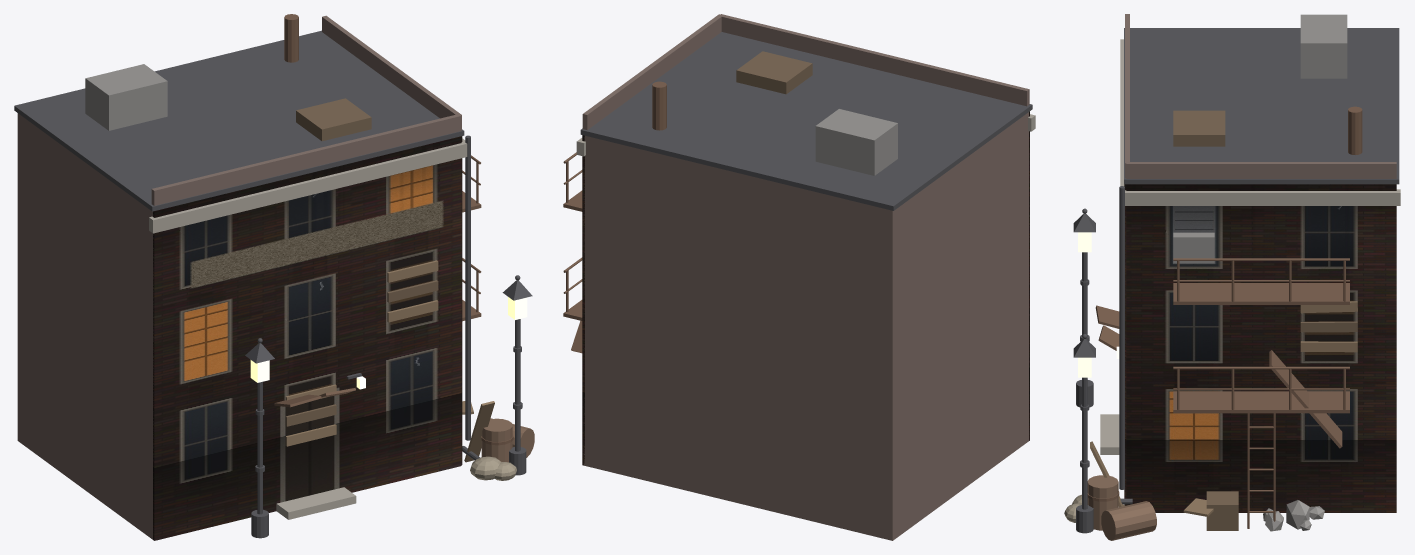
The model's file is bg_vignette.glb.
3 views of the same model, side by side, from view 1: azimuth 30°, elevation 25°; view 2: azimuth 150°, elevation 25°; view 3: azimuth 270°, elevation 25° (orthographic).
Visible parts, largest first — view 1: facade_south, core, roof, parapet_s, cornice_s, roof_ac, parapet_e, roof_hatch, drainpipe, door_step, barrel_a1, lamp_b_pole (+4 smaller); view 2: core, roof, parapet_s, roof_ac, parapet_e, roof_hatch, facade_east, roof_pipe; view 3: facade_east, roof, parapet_e, cornice_e, fe_plat_1, fe_plat_0, roof_ac, roof_hatch, drainpipe, barrel_a2, crate_broken, ac_unit (+18 smaller).
Boxes of the visible parts, x1=… form: facade_south: x1=153, y1=136, x2=461, y2=540; core: x1=17, y1=113, x2=153, y2=539; roof: x1=14, y1=30, x2=464, y2=211; parapet_s: x1=151, y1=114, x2=461, y2=205; cornice_s: x1=149, y1=141, x2=467, y2=233; roof_ac: x1=85, y1=64, x2=167, y2=130; parapet_e: x1=322, y1=15, x2=461, y2=129; roof_hatch: x1=296, y1=98, x2=371, y2=141; drainpipe: x1=465, y1=135, x2=470, y2=440; door_step: x1=276, y1=487, x2=356, y2=519; barrel_a1: x1=481, y1=418, x2=512, y2=462; lamp_b_pole: x1=257, y1=381, x2=262, y2=514; core: x1=584, y1=112, x2=1028, y2=540; roof: x1=580, y1=32, x2=1032, y2=210; parapet_s: x1=720, y1=14, x2=1029, y2=106; roof_ac: x1=815, y1=109, x2=897, y2=175; parapet_e: x1=582, y1=14, x2=722, y2=129; roof_hatch: x1=736, y1=51, x2=812, y2=94; facade_east: x1=582, y1=135, x2=584, y2=465; roof_pipe: x1=652, y1=81, x2=666, y2=130; facade_east: x1=1126, y1=184, x2=1396, y2=512; roof: x1=1124, y1=28, x2=1399, y2=184; parapet_e: x1=1126, y1=162, x2=1396, y2=178; cornice_e: x1=1125, y1=189, x2=1400, y2=205; fe_plat_1: x1=1173, y1=283, x2=1349, y2=304; fe_plat_0: x1=1173, y1=391, x2=1349, y2=413; roof_ac: x1=1300, y1=14, x2=1347, y2=78; roof_hatch: x1=1173, y1=110, x2=1225, y2=146; drainpipe: x1=1119, y1=186, x2=1124, y2=489; barrel_a2: x1=1101, y1=501, x2=1156, y2=540; crate_broken: x1=1206, y1=491, x2=1238, y2=530; ac_unit: x1=1173, y1=232, x2=1214, y2=263.
Size of the model in its own units: 8.4 by 8.13 by 6.47.
13 materials, 1 textured.
